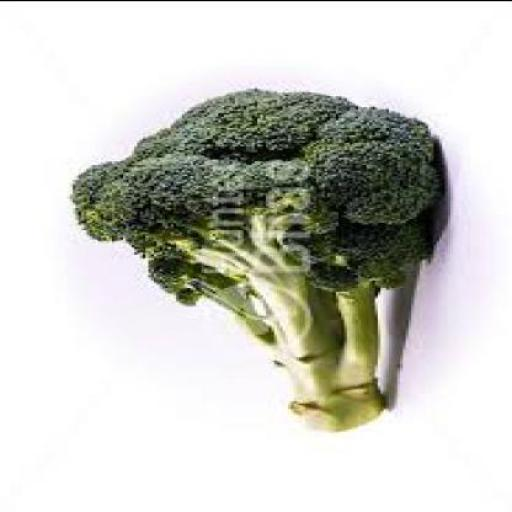biodegradable: (68, 89, 442, 434)
